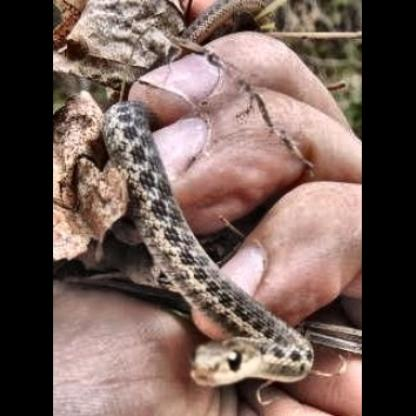Snake: (95, 98, 318, 393)
